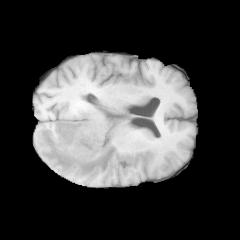glioma: (40, 83, 118, 178)
